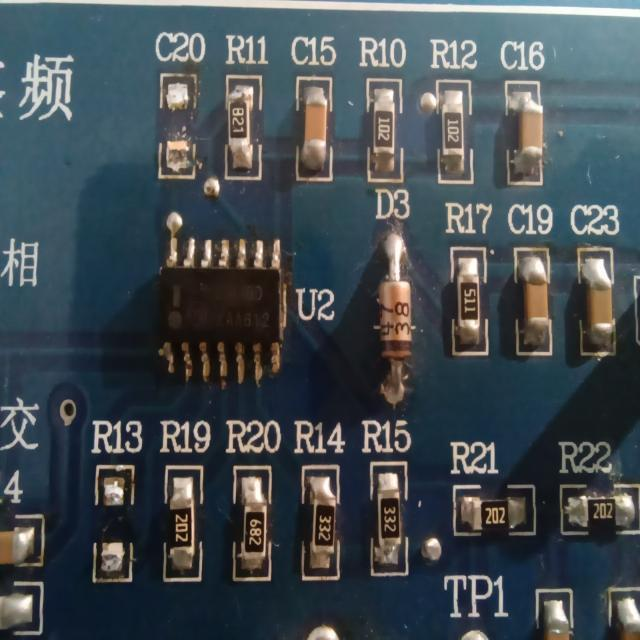Missing component: (80, 400, 148, 606), (146, 18, 212, 192)
